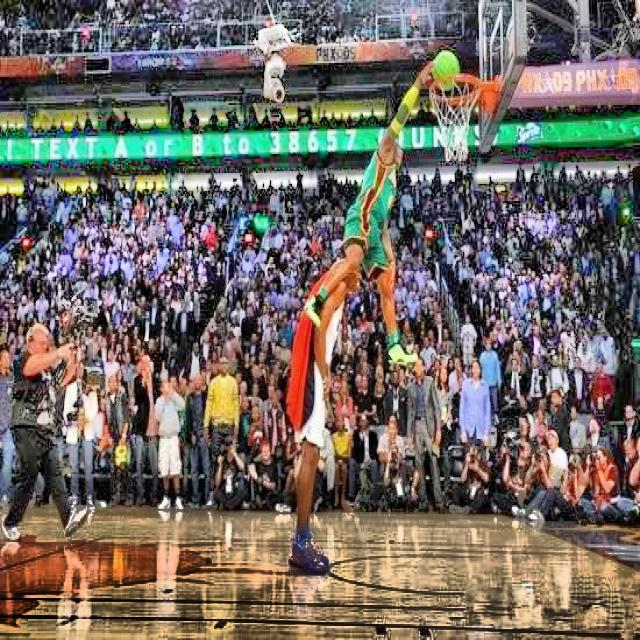rim: (432, 75, 482, 163)
